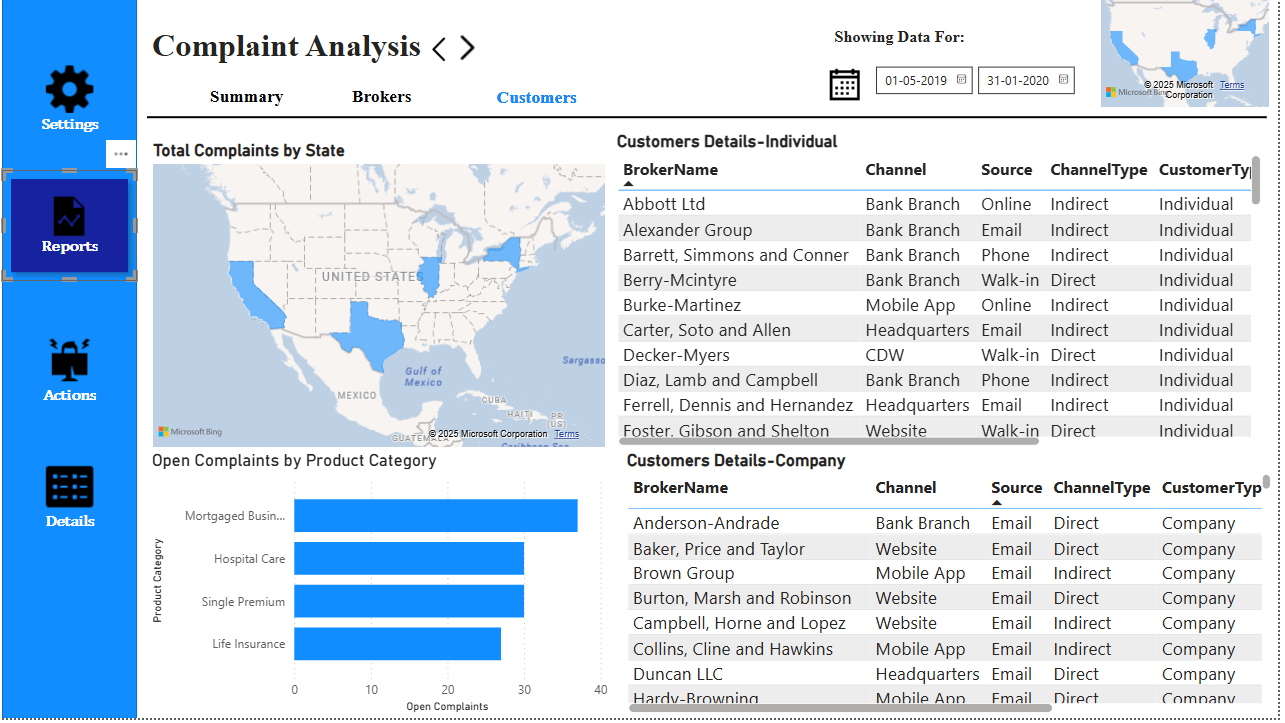

What the dashboard file says about the page in this screenshot:
{"tool":"powerbi","page":{"name":"Customers","canvas":[1280,720],"ordinal":5},"visuals":[{"type":"shape","box":[9.6,0,134.5,720.4],"z":0},{"type":"actionButton","box":[176.4,80,153.7,41.2],"z":0,"group":"g2"},{"type":"actionButton","box":[177,81,153.7,41.2],"z":0,"group":"g1"},{"type":"textbox","box":[153.7,26.1,289.5,64.5],"z":1000},{"type":"actionButton","box":[310.9,80,153.7,41.2],"z":1000,"group":"g2"},{"type":"actionButton","box":[311.5,81,153.7,41.2],"z":1000,"group":"g1"},{"type":"textbox","box":[915.3,42.5,365,48],"z":2000},{"type":"actionButton","box":[464.6,81.4,153.7,41.2],"z":2000,"group":"g2"},{"type":"actionButton","box":[465.2,82.4,153.7,41.2],"z":2000,"group":"g1"},{"type":"slicer","fields":{"Values":["Sheet1.ComplaintDate"]},"box":[949.6,70,227.8,53.5],"z":3000},{"type":"shape","box":[154.3,110,1114.3,24.3],"z":4000},{"type":"filledMap","fields":{"Category":["Sheet1.State"]},"box":[1097.9,0,171.4,72.3],"z":5000},{"type":"group","id":"g1","title":"Group 1","box":[177,81,441.9,42.5],"z":6000},{"type":"group","id":"g2","title":"Group 1","box":[176.4,80,441,41],"z":7000},{"type":"image","box":[914.9,71.8,53.3,45.1],"z":8000},{"type":"tableEx","title":"Customers Details-Individual","fields":{"Values":["Sheet1.BrokerName","Sheet1.Channel","Sheet1.Source","Sheet1.ChannelType","Sheet1.CustomerType (groups)","Sheet1.Product","Sheet1.SatisfactionLevel"]},"box":[617.4,135.4,650.3,317.9],"z":9000},{"type":"filledMap","fields":{"Category":["Sheet1.State"]},"box":[155.9,160,459.5,293.3],"z":10000},{"type":"clusteredBarChart","fields":{"Category":["Sheet1.Product Category"],"Y":["Sheet1.Open Complaints"]},"box":[153.8,453.3,463.6,266.7],"z":11000},{"type":"tableEx","title":"Customers Details-Company","fields":{"Values":["Sheet1.BrokerName","Sheet1.Channel","Sheet1.Source","Sheet1.ChannelType","Sheet1.CustomerType (groups)","Sheet1.Product","Sheet1.SatisfactionLevel"]},"box":[627.1,452.8,650.4,266.2],"z":12000},{"type":"actionButton","box":[10,47.3,134.3,110.7],"z":13000},{"type":"actionButton","box":[10,181.6,134.3,110.7],"z":14000},{"type":"actionButton","box":[10,317.2,134.3,110.7],"z":15000},{"type":"actionButton","box":[10,442.8,134.3,110.7],"z":16000}]}

Visuals, with their boxes on the page's 1280x720 design canvas (x1, y1, x2, y2). These are canvas units, not pixel positions in the 1285x723 screenshot, which may show the page scaled, cropped or inside an application window:
shape: l=10, t=0, r=144, b=720
actionButton: l=176, t=80, r=330, b=121
actionButton: l=177, t=81, r=331, b=122
textbox: l=154, t=26, r=443, b=91
actionButton: l=311, t=80, r=465, b=121
actionButton: l=312, t=81, r=465, b=122
textbox: l=915, t=42, r=1280, b=90
actionButton: l=465, t=81, r=618, b=123
actionButton: l=465, t=82, r=619, b=124
slicer - Sheet1.ComplaintDate: l=950, t=70, r=1177, b=124
shape: l=154, t=110, r=1269, b=134
filledMap - Sheet1.State: l=1098, t=0, r=1269, b=72
"Group 1" group: l=177, t=81, r=619, b=124
"Group 1" group: l=176, t=80, r=617, b=121
image: l=915, t=72, r=968, b=117
"Customers Details-Individual" tableEx: l=617, t=135, r=1268, b=453
filledMap - Sheet1.State: l=156, t=160, r=615, b=453
clusteredBarChart - Sheet1.Product Category x Sheet1.Open Complaints: l=154, t=453, r=617, b=720
"Customers Details-Company" tableEx: l=627, t=453, r=1278, b=719
actionButton: l=10, t=47, r=144, b=158
actionButton: l=10, t=182, r=144, b=292
actionButton: l=10, t=317, r=144, b=428
actionButton: l=10, t=443, r=144, b=554
